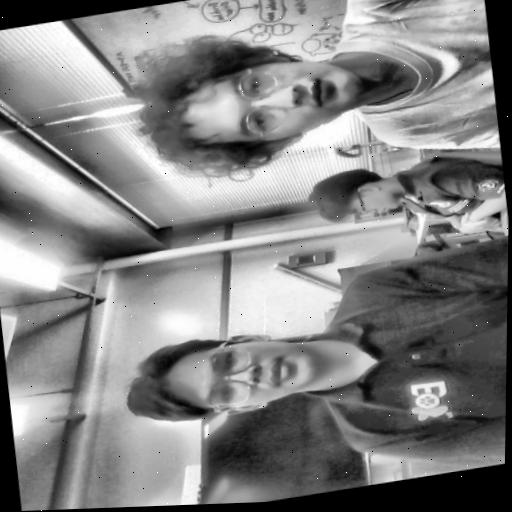Daifuku: (124, 22, 362, 188)
Not Daifuku: (117, 319, 331, 436), (307, 160, 408, 227)
